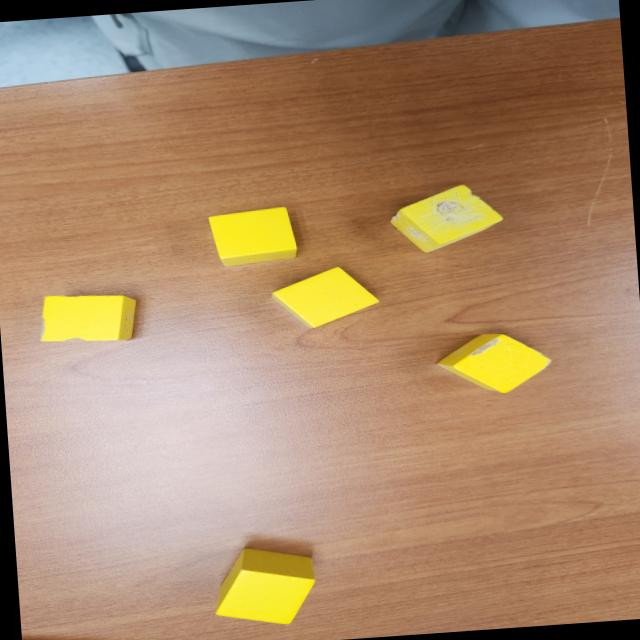broken: (387, 182, 504, 256), (35, 288, 140, 346)
yellow: (212, 542, 322, 629), (434, 328, 554, 398), (268, 264, 380, 332), (207, 205, 299, 268)
